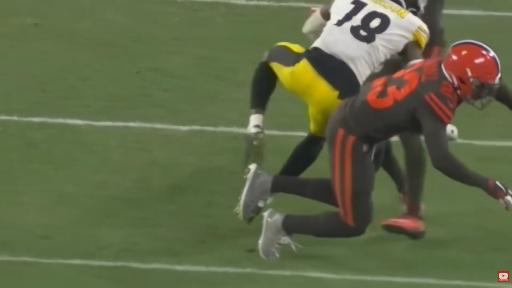Helmet: (443, 40, 501, 109), (390, 0, 426, 15)
Jersey: (339, 60, 461, 142), (312, 0, 429, 83)
Player: (241, 41, 511, 258), (246, 0, 428, 175), (419, 0, 445, 58), (422, 0, 445, 58)
